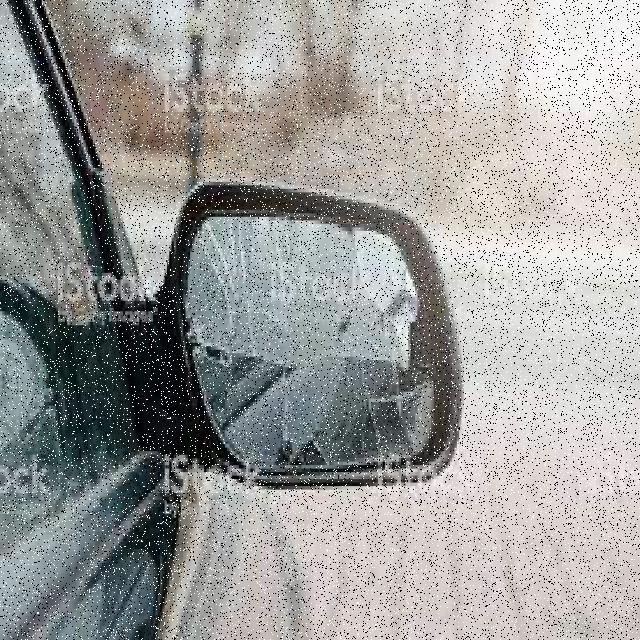Sidemirror-Damage: (144, 172, 476, 497)
